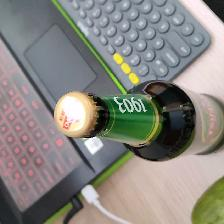gua: (187, 180, 224, 222)
